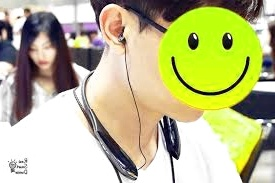earphone: (99, 3, 131, 55)
